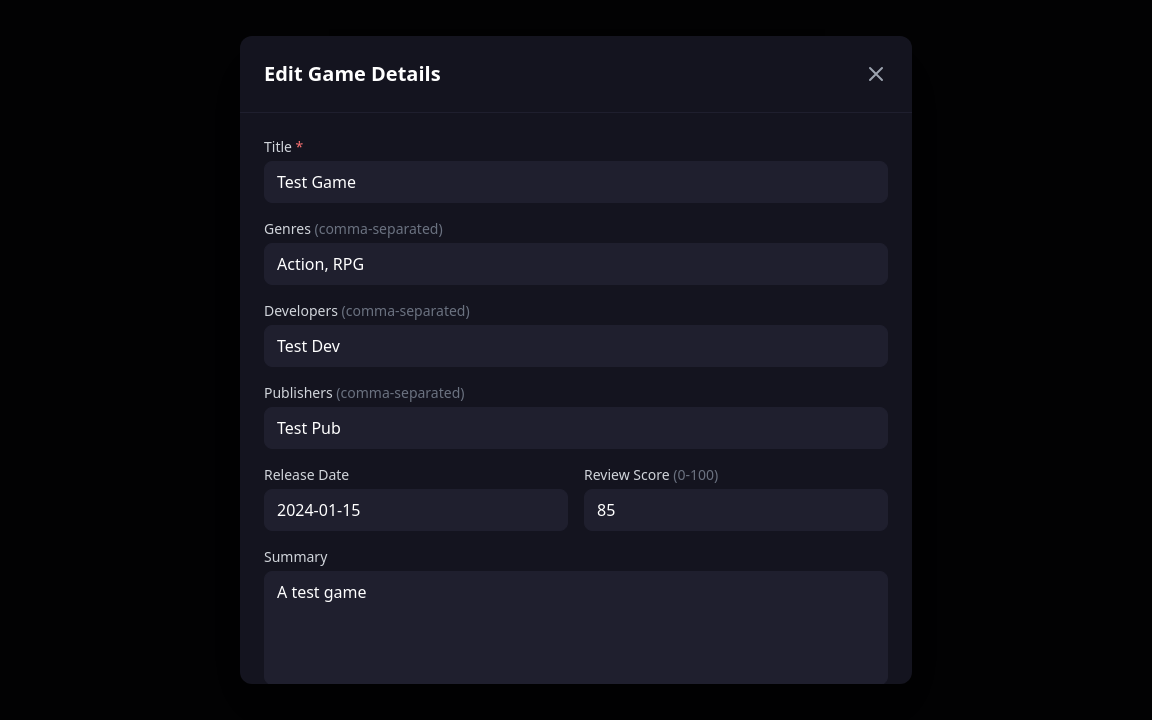
Test: EditModal › validates date format correctly
Replace the text in the field showing "2024-01-15" below "Release Date" with "invalid-date": (416, 510) top-left (264, 489), bottom-right (568, 531)
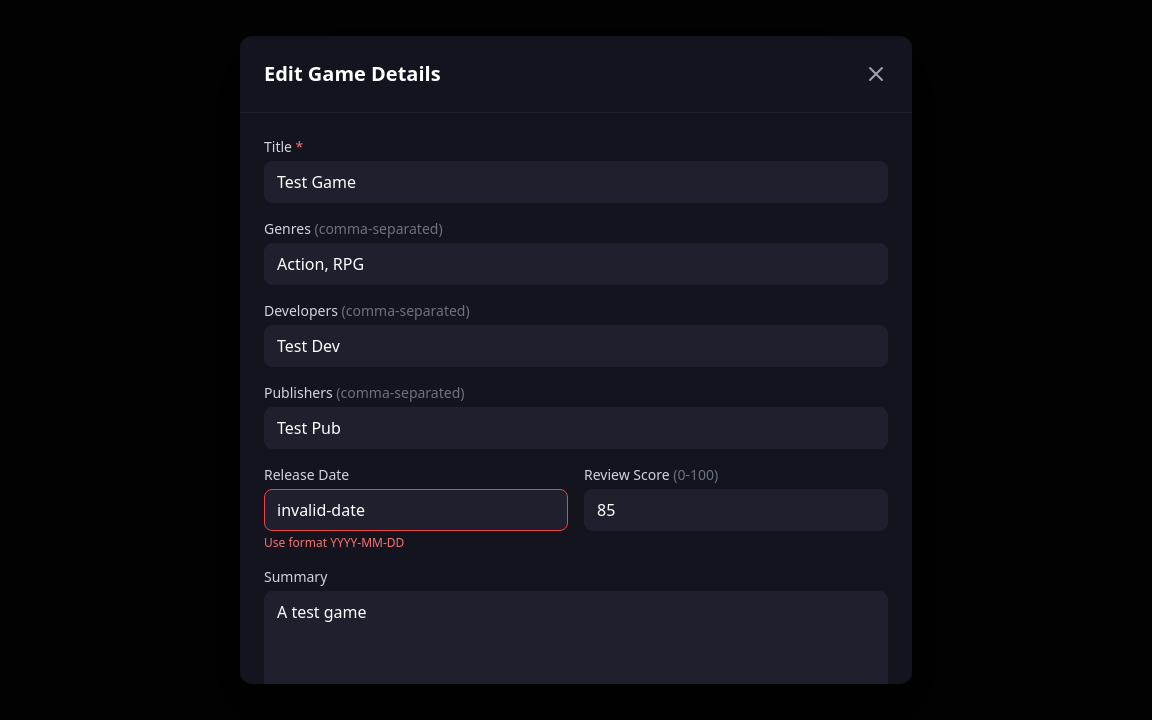
expect the text "Use format YYYY-MM-DD" is shown: met, box top-left (264, 534), bottom-right (404, 551)
